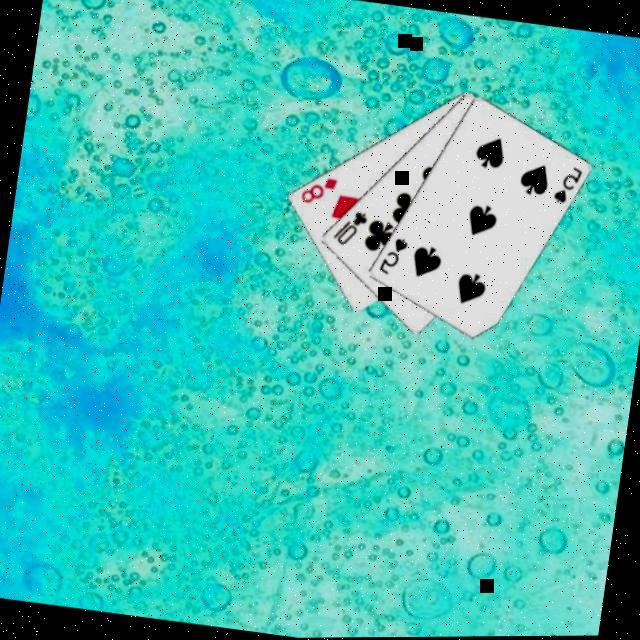10C: (326, 206, 368, 252)
5S: (548, 162, 584, 210), (372, 234, 408, 280)
8D: (294, 172, 338, 210)
